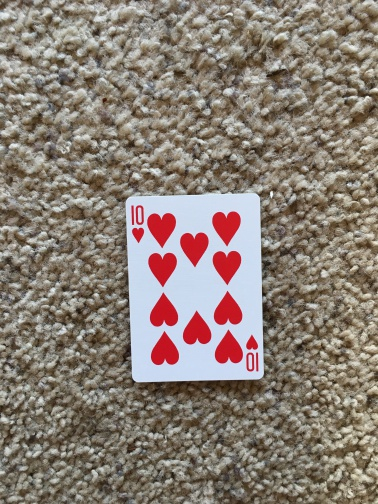ten: (123, 191, 266, 384)
